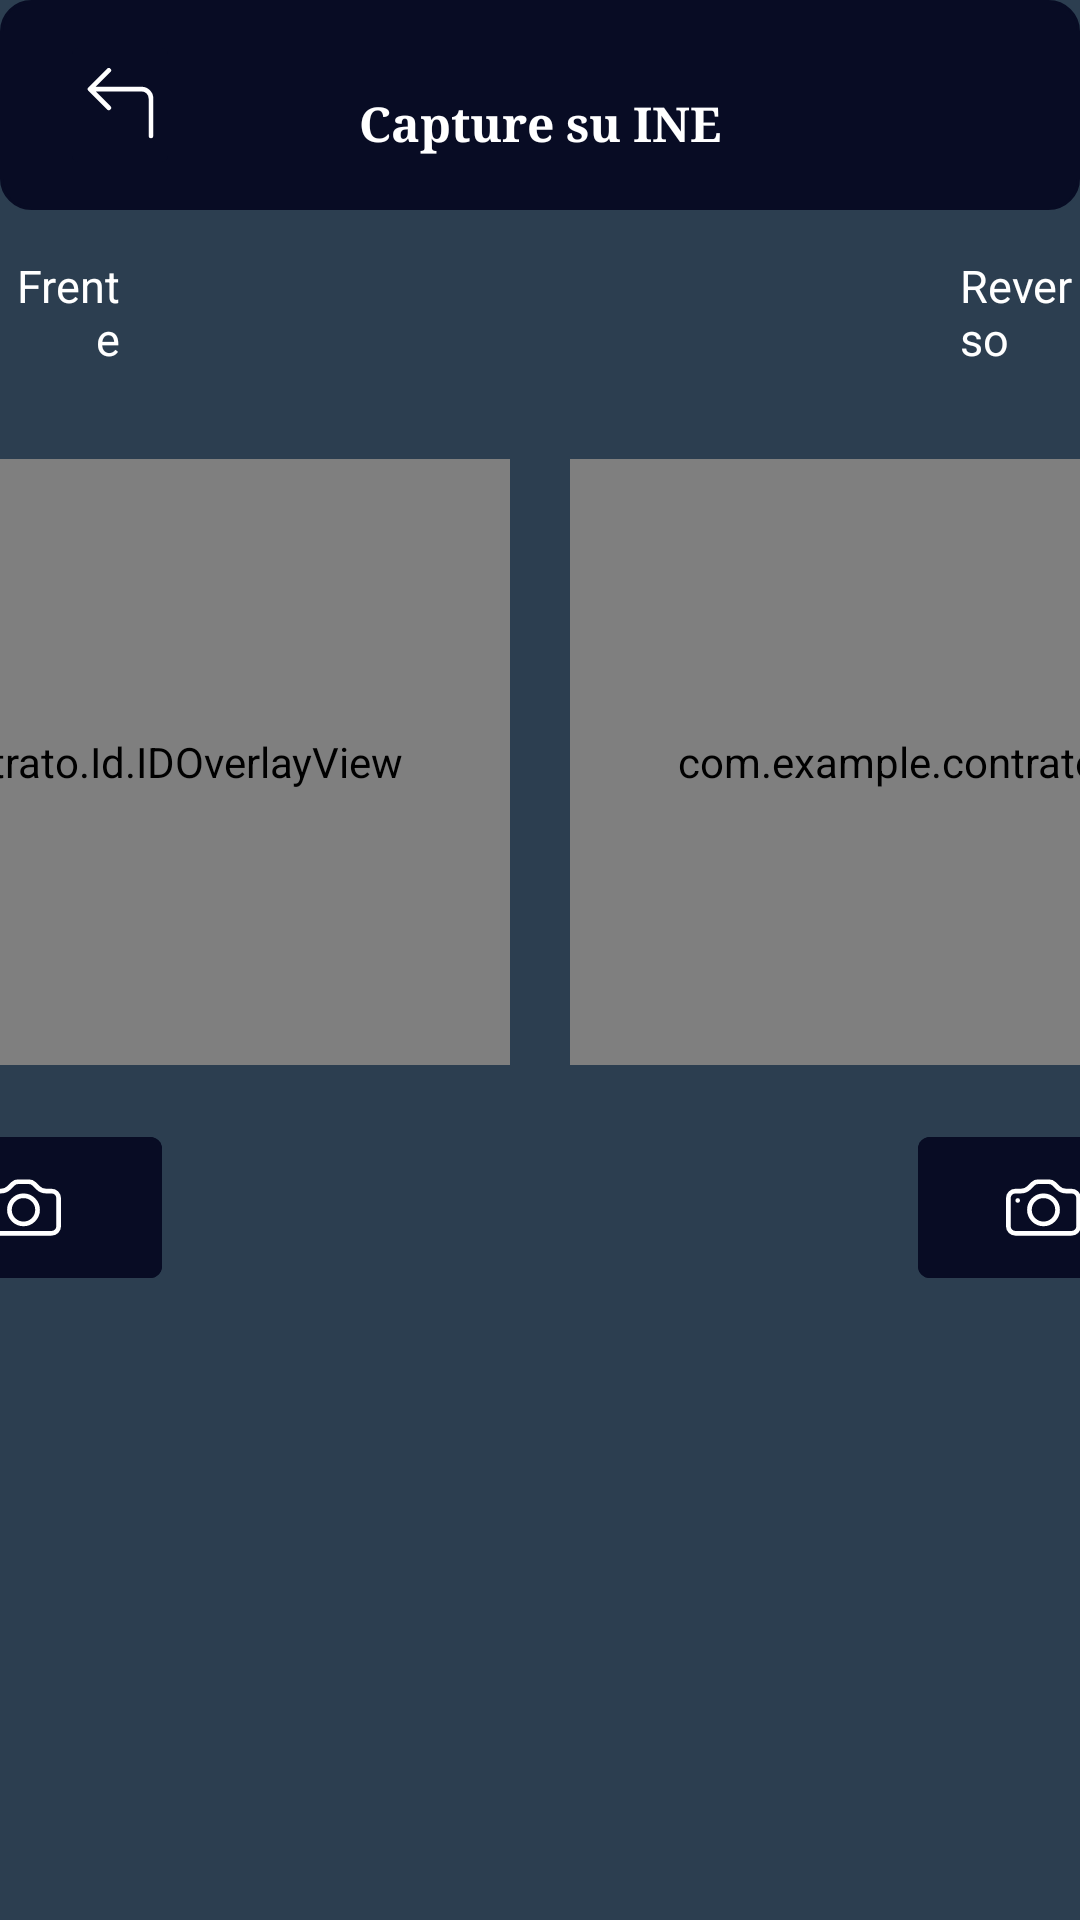

Screen size 1080px x 1920px. Icon name, then its center in pixels as [x,y]:
regresar firma: [120,103]
